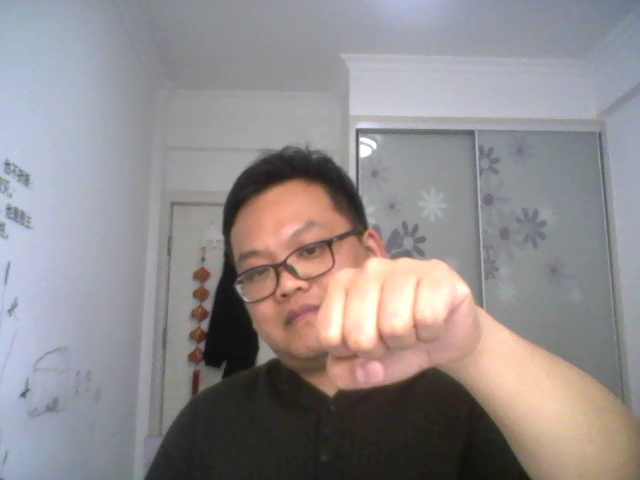Yes: (310, 247, 493, 397)
